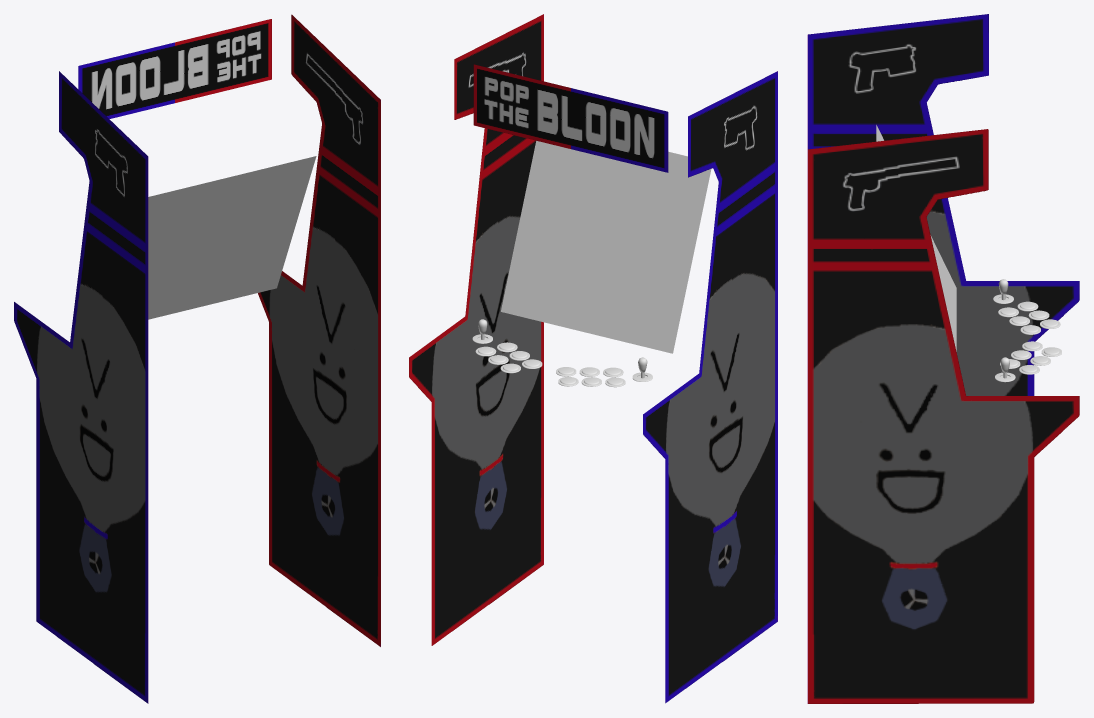
The model's file is arcade.fbx.
3 renders of one model, left to right at view 1: azimuth 30°, elevation 25°; view 2: azimuth 150°, elevation 25°; view 3: azimuth 270°, elevation 25°, orthographic.
Visible parts, largest first — view 1: Cube.001; view 2: Cube.001; view 3: Cube.001.
Part boxes in pixels (bbox=[...]): Cube.001: bbox=[14, 14, 380, 703]; Cube.001: bbox=[409, 14, 777, 703]; Cube.001: bbox=[807, 14, 1079, 703].
Bounding box in the file's own units: 75 × 175 × 75.33.
